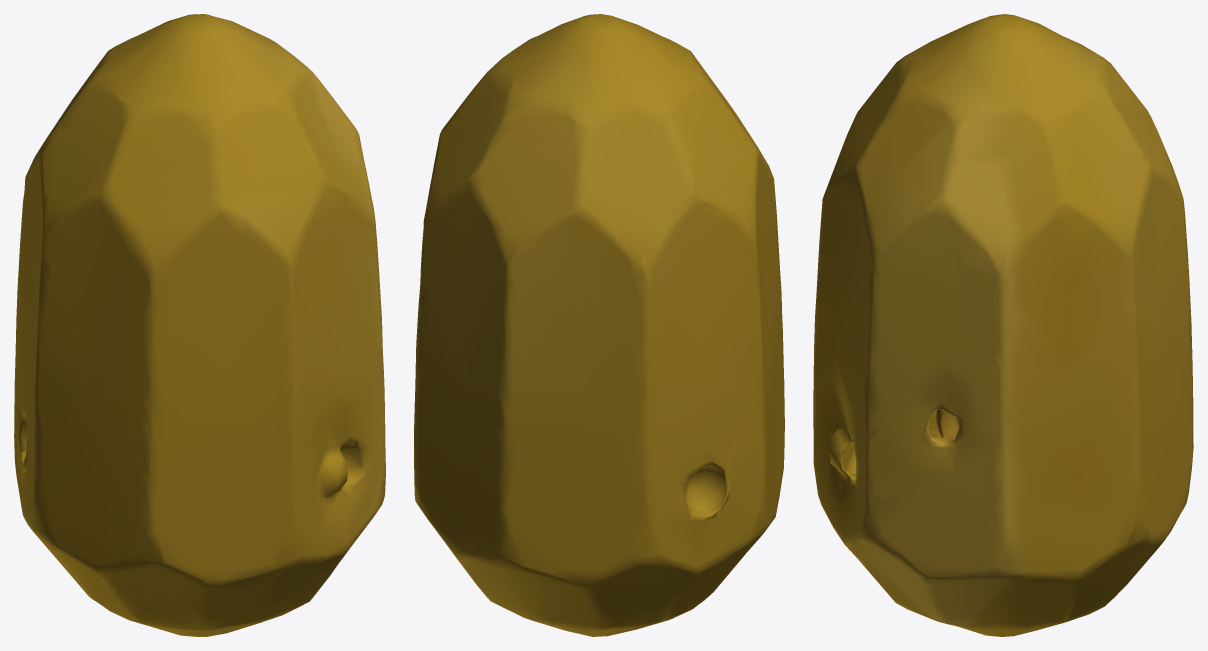
The model's file is gen3d-potato-lod0.glb.
3 renders of one model, left to right at view 1: azimuth 30°, elevation 25°; view 2: azimuth 150°, elevation 25°; view 3: azimuth 270°, elevation 25°, orthographic.
Visible parts, largest first — view 1: part_0; view 2: part_0; view 3: part_0.
Boxes of the visible parts, x1,y1,x2,y2 form: part_0: (14, 14, 385, 636); part_0: (414, 14, 784, 636); part_0: (813, 14, 1193, 636).
Bounding box in the file's own units: 0.5656 × 0.999 × 0.5663.
